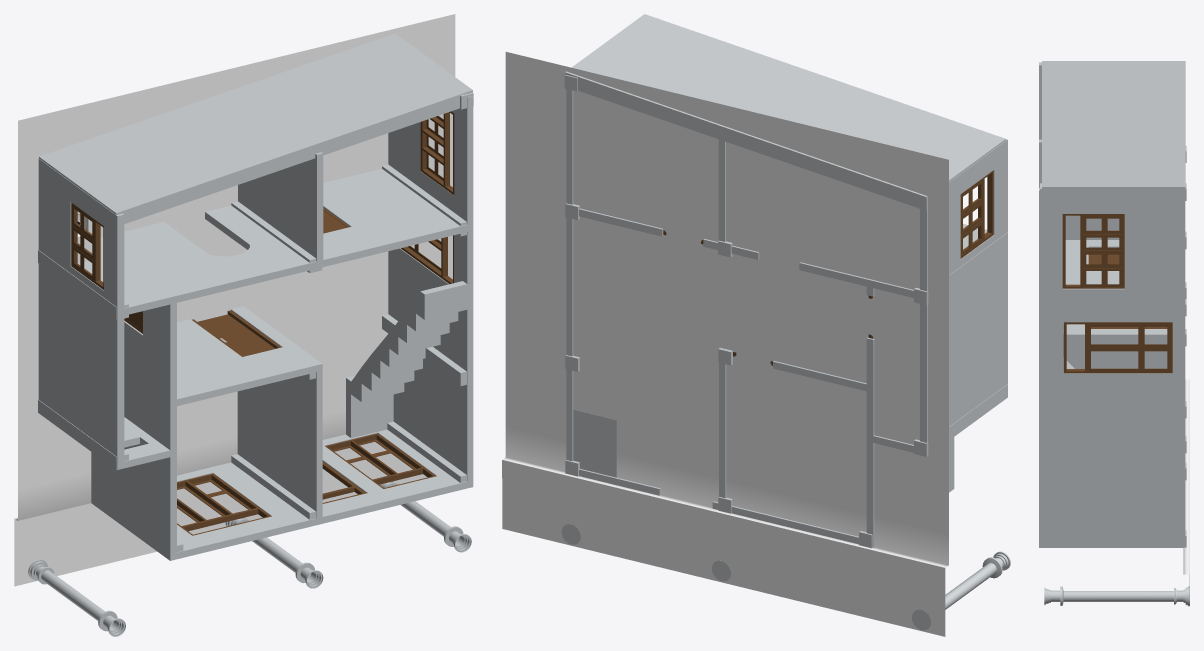
3 renders of one model, left to right at view 1: azimuth 30°, elevation 25°; view 2: azimuth 150°, elevation 25°; view 3: azimuth 270°, elevation 25°, orthographic. The views are drawn at different scales.
Visible parts, largest first — view 1: polySurface3, pPlane1, pCube46, pCube28, pCylinder4, pCube58, pCube106, polySurface6, pCylinder1, polySurface7, pCylinder5, polySurface55 (+16 smaller); view 2: pPlane1, pCube46, polySurface3, pCube28, pCylinder4, pCube9, pCube4, polySurface44; view 3: polySurface3, pCube46, pCylinder5, polySurface8, polySurface55, pPlane1, pCube87, pCube88, pCube121, pCube126, pCube122, pCube124 (+2 smaller).
Part boxes in pixels (left/top/right/bottom): polySurface3: left=38, top=96, right=473, bottom=560; pPlane1: left=14, top=14, right=455, bottom=586; pCube46: left=39, top=33, right=472, bottom=223; pCube28: left=346, top=375, right=393, bottom=438; pCylinder4: left=28, top=559, right=125, bottom=636; pCube58: left=408, top=281, right=467, bottom=319; pCube106: left=197, top=314, right=275, bottom=356; polySurface6: left=177, top=473, right=271, bottom=535; pCylinder1: left=225, top=511, right=323, bottom=588; polySurface7: left=325, top=433, right=435, bottom=488; pCylinder5: left=379, top=475, right=471, bottom=552; polySurface55: left=420, top=111, right=454, bottom=195; pPlane1: left=502, top=52, right=948, bottom=636; pCube46: left=565, top=14, right=1005, bottom=210; polySurface3: left=566, top=89, right=1007, bottom=547; pCube28: left=573, top=409, right=616, bottom=477; pCylinder4: left=912, top=551, right=1010, bottom=630; pCube9: left=914, top=384, right=1007, bottom=456; pCube4: left=914, top=232, right=1007, bottom=305; polySurface44: left=960, top=170, right=993, bottom=258; polySurface3: left=1039, top=62, right=1185, bottom=547; pCube46: left=1042, top=61, right=1185, bottom=199; pCylinder5: left=1044, top=586, right=1189, bottom=606; polySurface8: left=1063, top=322, right=1172, bottom=373; polySurface55: left=1062, top=214, right=1124, bottom=288; pPlane1: left=1183, top=379, right=1189, bottom=597; pCube87: left=1087, top=348, right=1170, bottom=371; pCube88: left=1087, top=324, right=1170, bottom=347; pCube121: left=1082, top=215, right=1122, bottom=233; pCube126: left=1082, top=234, right=1122, bottom=250; pCube122: left=1082, top=268, right=1122, bottom=286; pCube124: left=1082, top=251, right=1122, bottom=266.
Size of the model in its own units: 0.1235 by 0.1264 by 0.0404.
